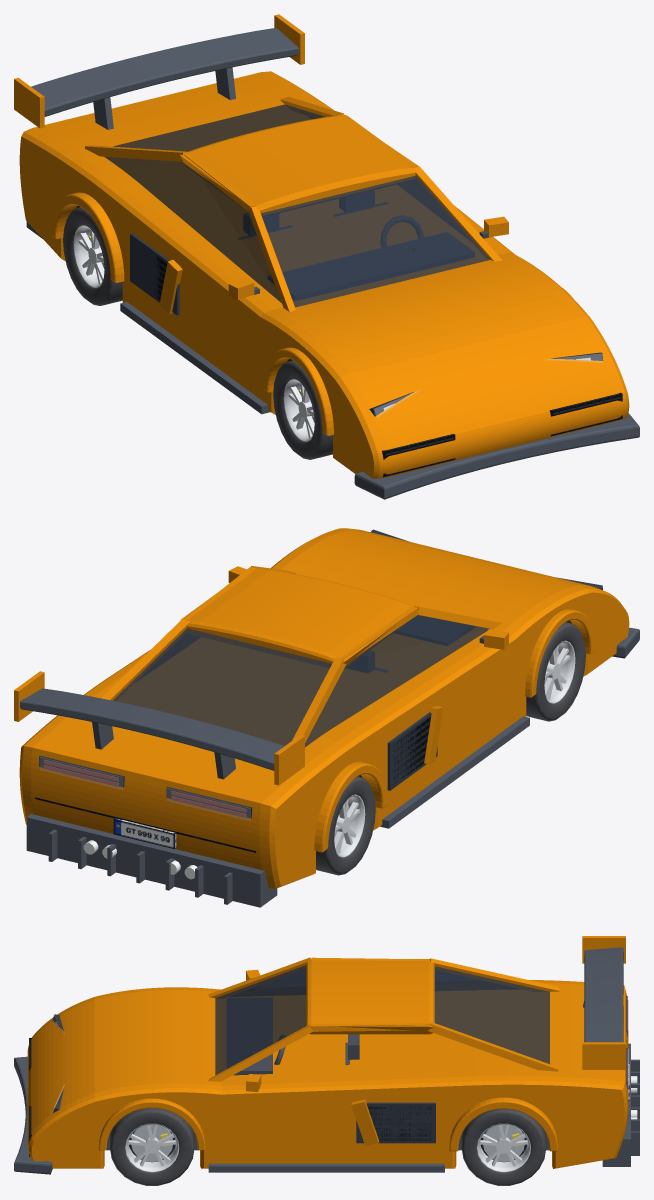
File: car_hypercar.glb
3 renders of one model, top to bottom at view 1: azimuth 30°, elevation 25°; view 2: azimuth 150°, elevation 25°; view 3: azimuth 270°, elevation 25°, orthographic. The views are drawn at different scales.
Parts seen in each view (by area): view 1: HypercarLowerBody, CabinGreenhouse, chassis, SculptedRoof, InteriorCabin, HyperSplitter, wheel_FR_spin, wheel_RR_spin; view 2: HypercarLowerBody, chassis, CabinGreenhouse, SculptedRoof, wheel_FR_spin, wheel_RR_spin, InteriorCabin, taillight_R_housing, taillight_L_housing, taillight_L, taillight_R; view 3: HypercarLowerBody, CabinGreenhouse, chassis, SculptedRoof, wheel_FL_spin, wheel_RL_spin, InteriorCabin, HyperSplitter.
Part boxes in pixels (x1,y1,x2,y2): HypercarLowerBody: (19,71,629,478); CabinGreenhouse: (85,96,501,312); chassis: (14,14,622,477); SculptedRoof: (180,115,416,216); InteriorCabin: (238,190,474,300); HyperSplitter: (354,413,639,499); wheel_FR_spin: (273,360,332,459); wheel_RR_spin: (63,207,122,305); HypercarLowerBody: (19,528,629,888); chassis: (14,566,595,907); CabinGreenhouse: (101,566,501,747); SculptedRoof: (180,567,414,667); wheel_FR_spin: (526,622,585,721); wheel_RR_spin: (316,776,375,875); InteriorCabin: (347,616,474,672); taillight_R_housing: (166,786,252,820); taillight_L_housing: (39,755,124,789); taillight_L: (43,759,118,786); taillight_R: (171,791,246,817); HypercarLowerBody: (27,980,628,1168); CabinGreenhouse: (208,957,559,1081); chassis: (29,936,639,1172); SculptedRoof: (306,959,434,1034); wheel_FL_spin: (110,1108,194,1185); wheel_RL_spin: (461,1109,546,1185); InteriorCabin: (227,998,359,1075); HyperSplitter: (14,1056,52,1174).
Bounding box in the file's own units: 2.07 × 1.24 × 4.88.
17 materials, 2 textured.
